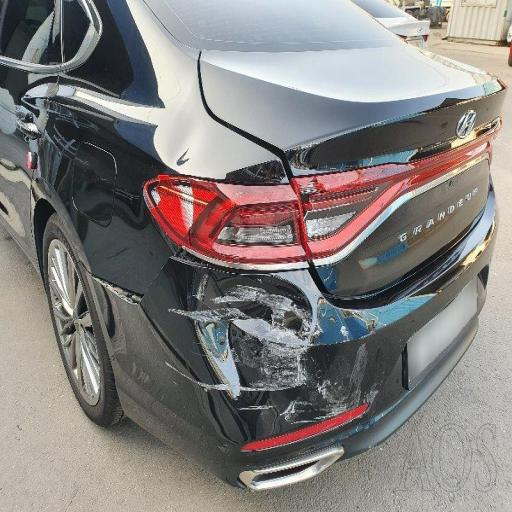dent: (390, 86, 481, 124)
scratch: (166, 160, 364, 456), (22, 62, 120, 186)
